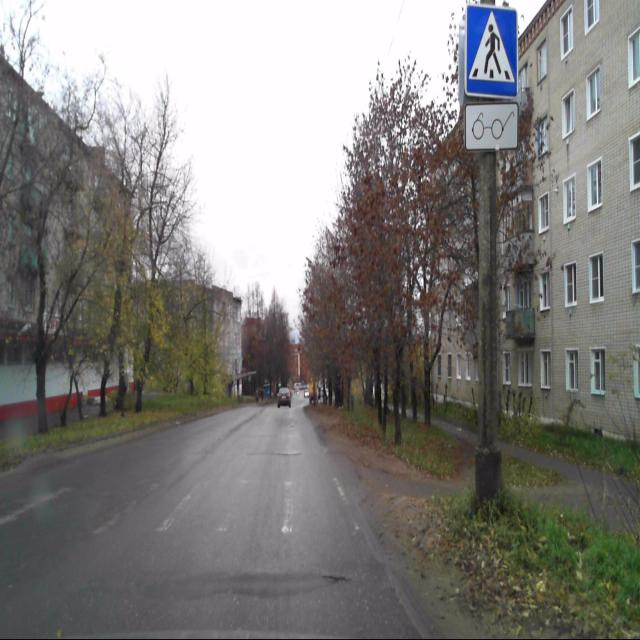road sign: (466, 5, 517, 98), (464, 105, 518, 149)
